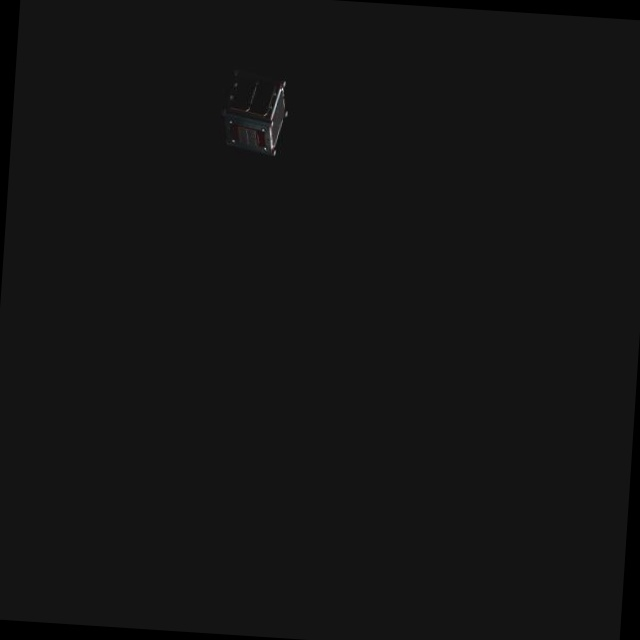satellite: (210, 67, 293, 164)
